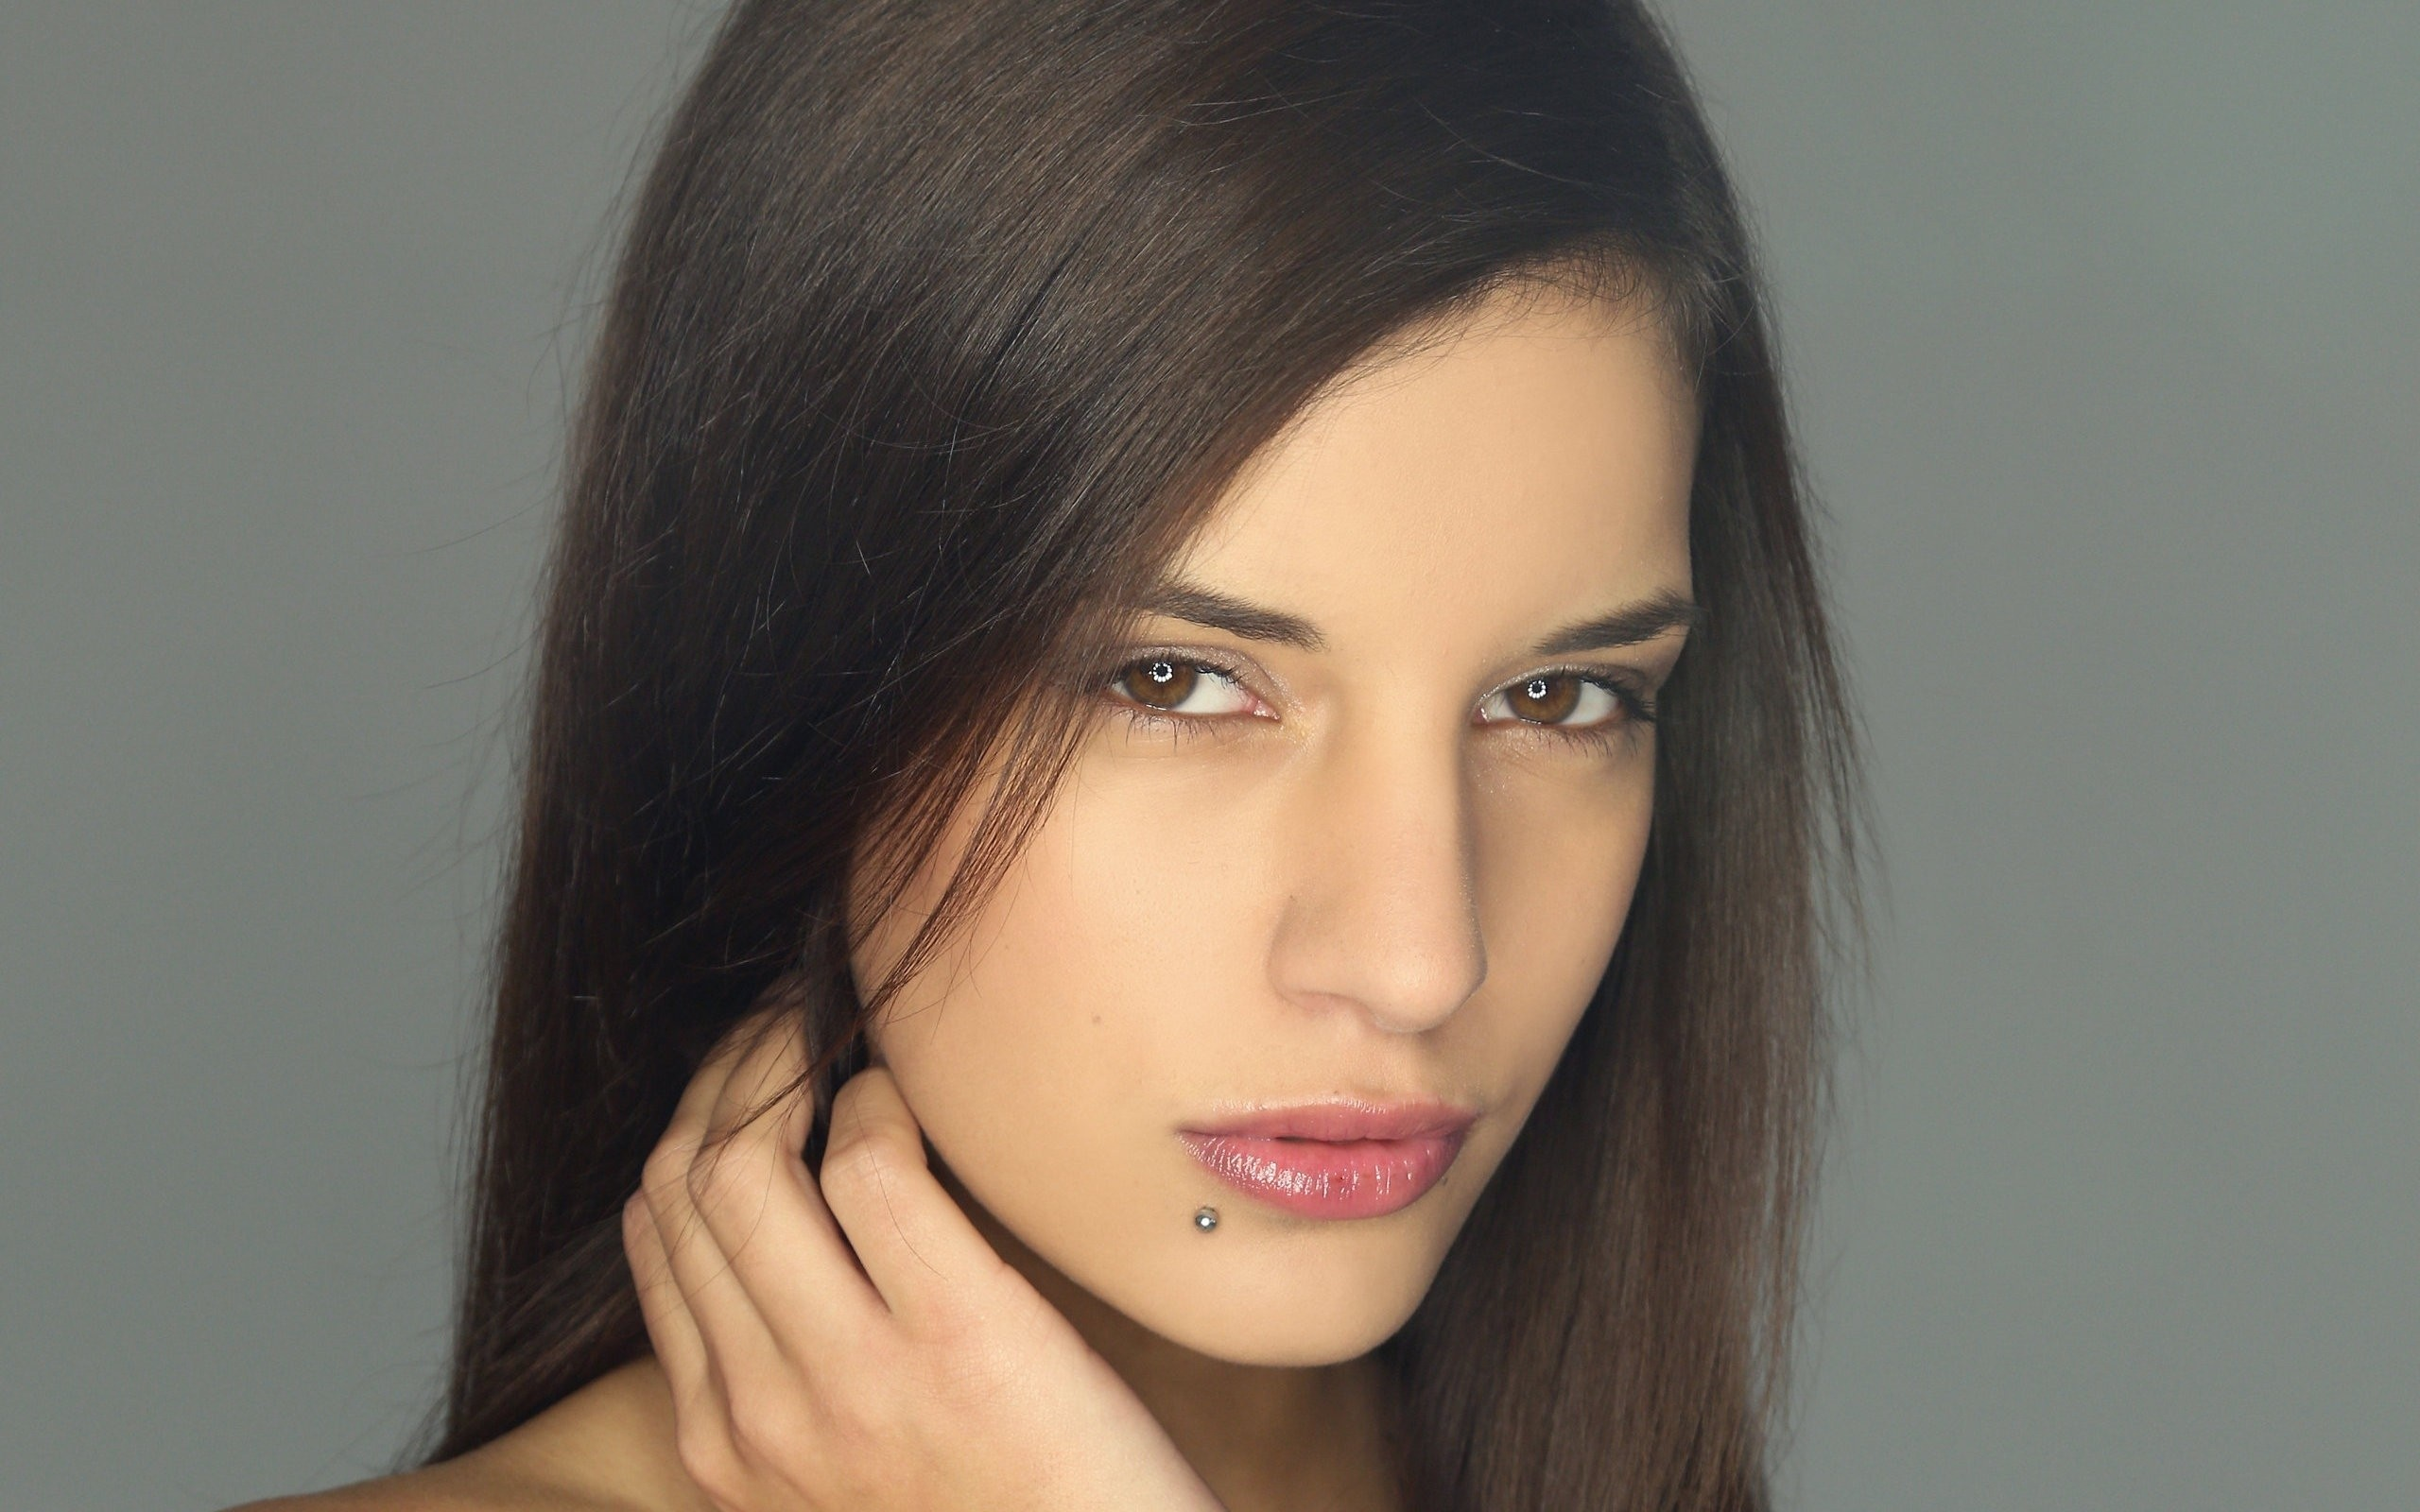face_no_mask: (648, 2, 1919, 1400)
